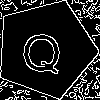Q: (20, 24, 63, 75)
